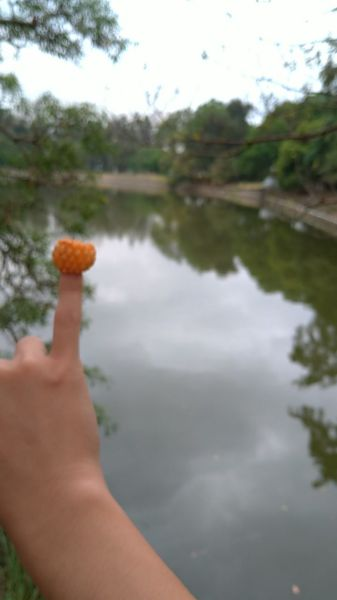eggs: (51, 239, 97, 275)
